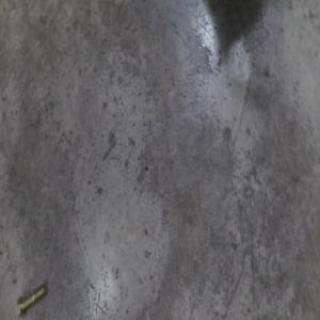Bolttrack_idkeyframe: (15, 284, 44, 317)
